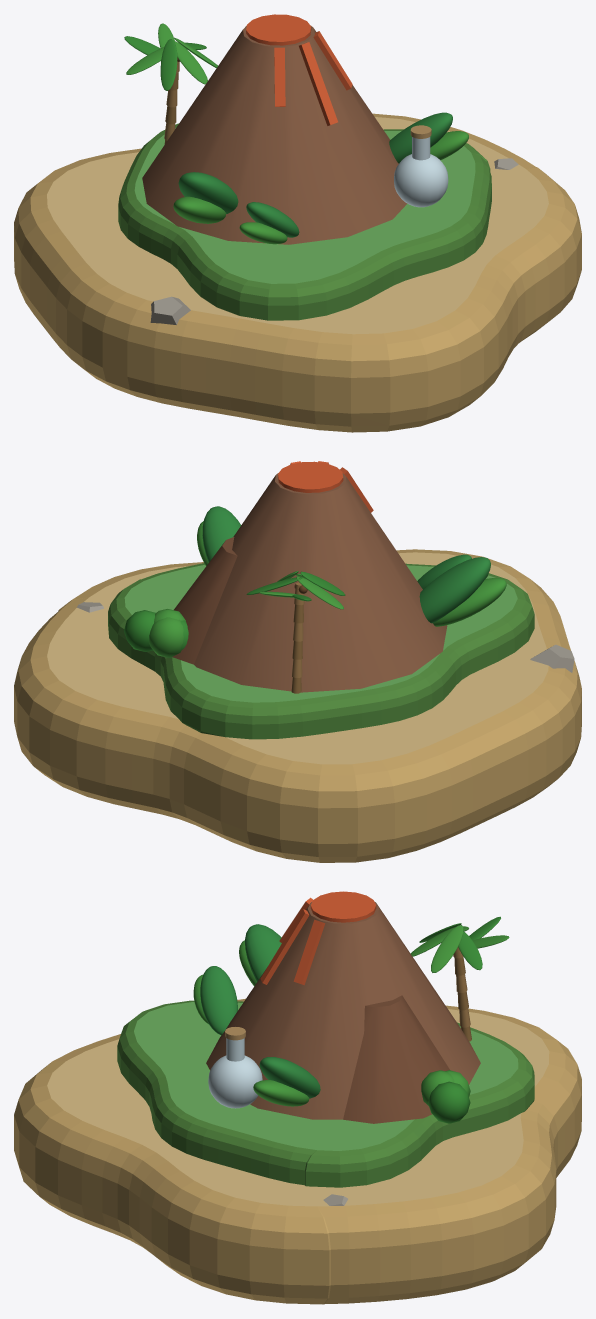
The model's file is science.glb.
3 renders of one model, top to bottom at view 1: azimuth 30°, elevation 25°; view 2: azimuth 150°, elevation 25°; view 3: azimuth 270°, elevation 25°, orthographic.
Parts seen in each view (by area): view 1: part_000, part_002, part_007, part_009; view 2: part_000, part_002, part_007, part_008, part_009; view 3: part_000, part_002, part_007, part_008.
Part boxes in pixels (x1=…): part_000: x1=14, y1=113, x2=581, y2=432; part_002: x1=142, y1=14, x2=468, y2=244; part_007: x1=124, y1=23, x2=217, y2=144; part_009: x1=150, y1=296, x2=190, y2=324; part_000: x1=14, y1=549, x2=581, y2=862; part_002: x1=172, y1=461, x2=506, y2=692; part_007: x1=246, y1=571, x2=345, y2=693; part_008: x1=124, y1=609, x2=188, y2=657; part_009: x1=530, y1=644, x2=574, y2=672; part_000: x1=14, y1=998, x2=581, y2=1304; part_002: x1=193, y1=891, x2=480, y2=1123; part_007: x1=410, y1=916, x2=509, y2=1041; part_008: x1=421, y1=1070, x2=470, y2=1123.
Size of the model in its own units: 8.56 by 4.76 by 8.68.
